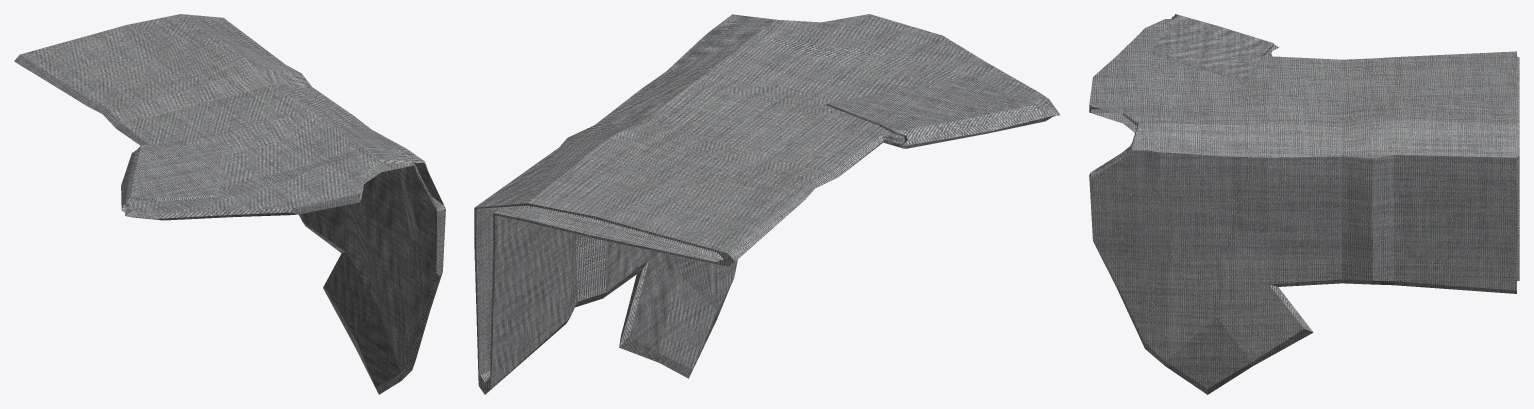
The model's file is camiseta4_1.fbx.
The picture shows the model from 3 angles, left to right: view 1: azimuth 30°, elevation 25°; view 2: azimuth 150°, elevation 25°; view 3: azimuth 270°, elevation 25°; orthographic projection. The views are drawn at different scales.
Parts seen in each view (by area): view 1: shirt6:Mesh; view 2: shirt6:Mesh; view 3: shirt6:Mesh.
Boxes of the visible parts, x1=… form: shirt6:Mesh: x1=14, y1=14, x2=445, y2=394; shirt6:Mesh: x1=474, y1=14, x2=1060, y2=394; shirt6:Mesh: x1=1089, y1=14, x2=1519, y2=394.
Bounding box in the file's own units: 1.79 × 1.63 × 2.45.
1 material, 1 textured.
